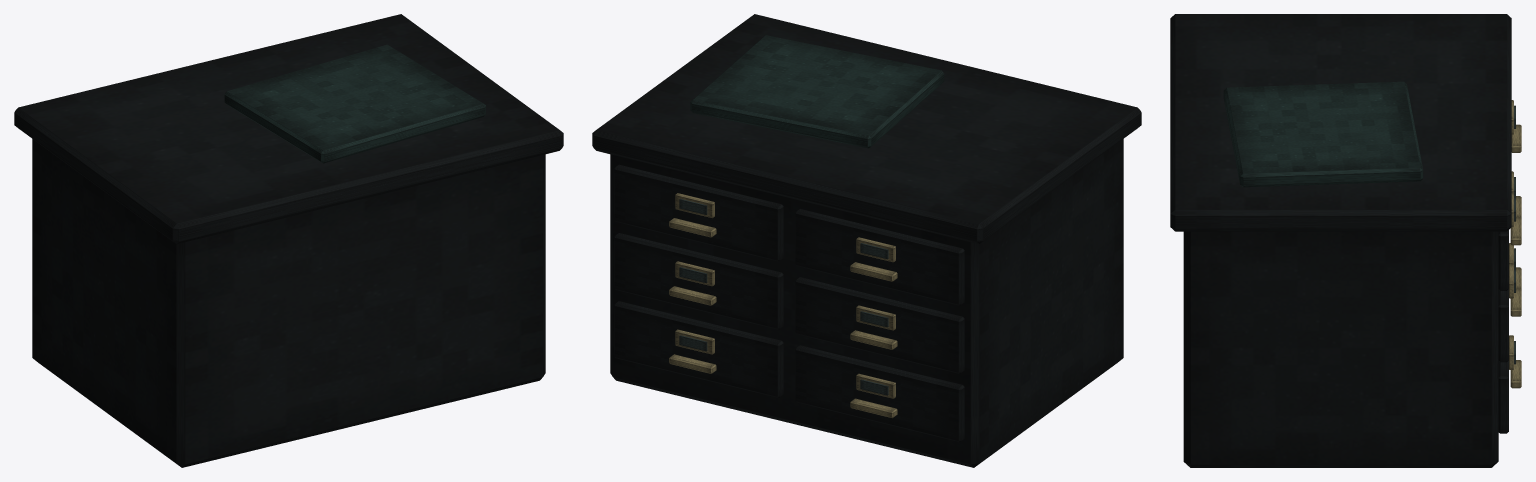
The model's file is THStage_Bay_01_ArchiveDrawers.fbx.
3 renders of one model, left to right at view 1: azimuth 30°, elevation 25°; view 2: azimuth 150°, elevation 25°; view 3: azimuth 270°, elevation 25°, orthographic. The views are drawn at different scales.
Visible parts, largest first — view 1: THStage_Bay_01_ArchiveDrawers; view 2: THStage_Bay_01_ArchiveDrawers; view 3: THStage_Bay_01_ArchiveDrawers.
Part boxes in pixels (box(x1,y1,x2,y2)): THStage_Bay_01_ArchiveDrawers: box(14, 14, 563, 467); THStage_Bay_01_ArchiveDrawers: box(592, 14, 1141, 467); THStage_Bay_01_ArchiveDrawers: box(1170, 14, 1521, 467).
Size of the model in its own units: 1.08 by 0.7025 by 0.8025.
1 material, 1 textured.
